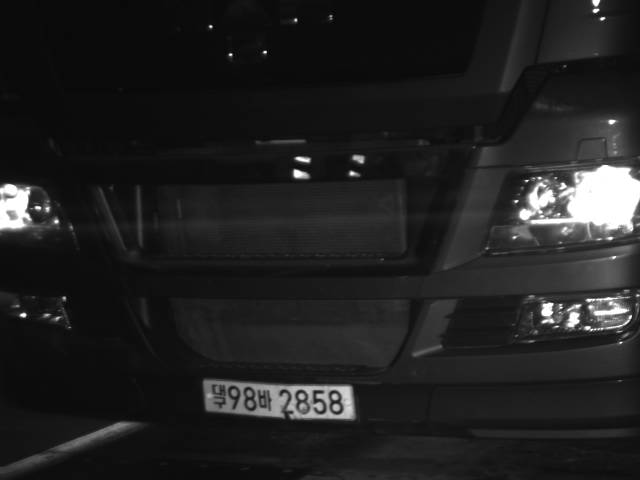car: (1, 1, 639, 445)
plate: (200, 378, 358, 423)
